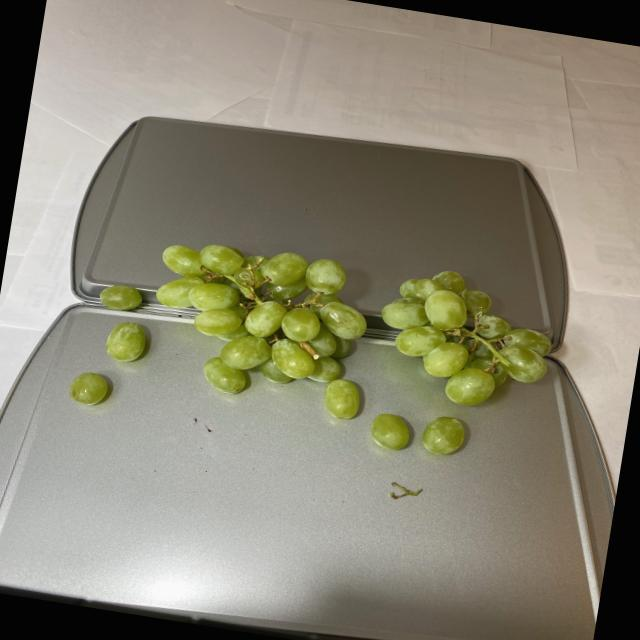grapes: (66, 217, 560, 480)
